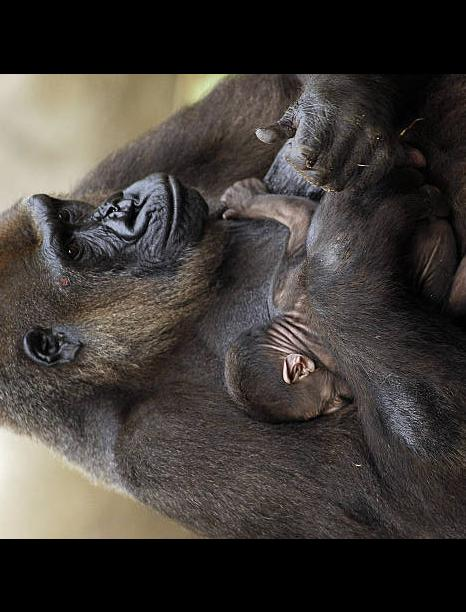gorille_Autres: (0, 82, 251, 535)
